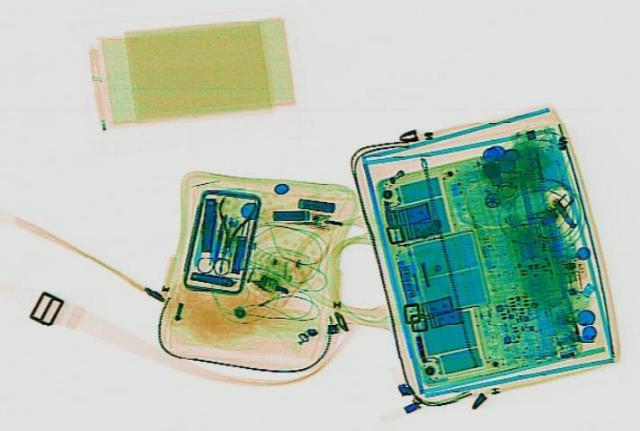Scissors: (193, 212, 241, 275)
